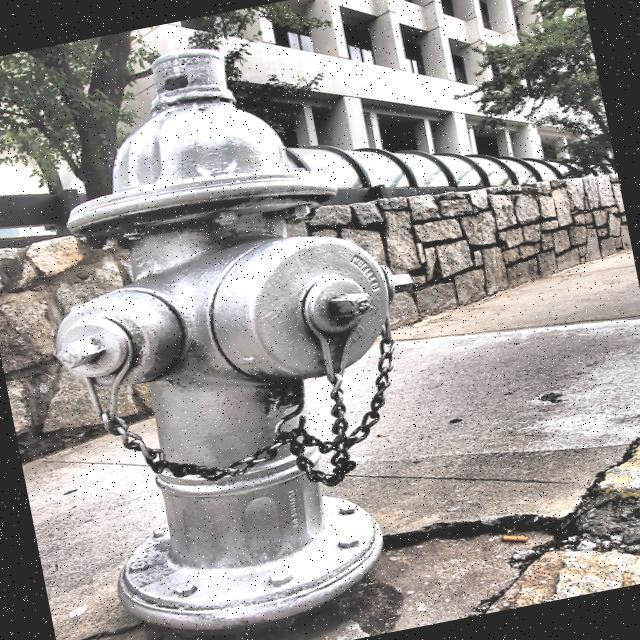fire_hydrant: (0, 16, 458, 640)
